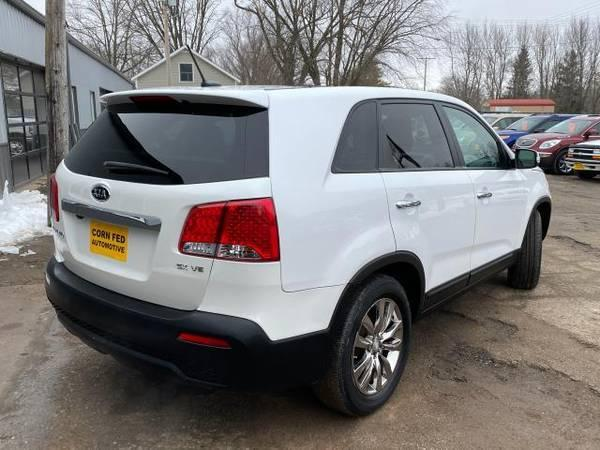Front_Right_Door: (465, 166, 529, 286)
Front_Right_Window: (437, 103, 516, 169)
Left_Taillight: (50, 173, 60, 224)
Rear_Bumper: (38, 258, 327, 393)
Rear_Fender: (197, 101, 395, 339)
Rear_Right_Door: (380, 170, 477, 306)
Rear_Right_Window: (379, 102, 462, 170)
Rear_Windshield: (63, 97, 270, 185)
Right_Taillight: (178, 194, 281, 261)
Roof: (101, 87, 522, 173)
Tailgate: (53, 161, 272, 308)
Wheel: (330, 276, 416, 412), (509, 213, 542, 294)
